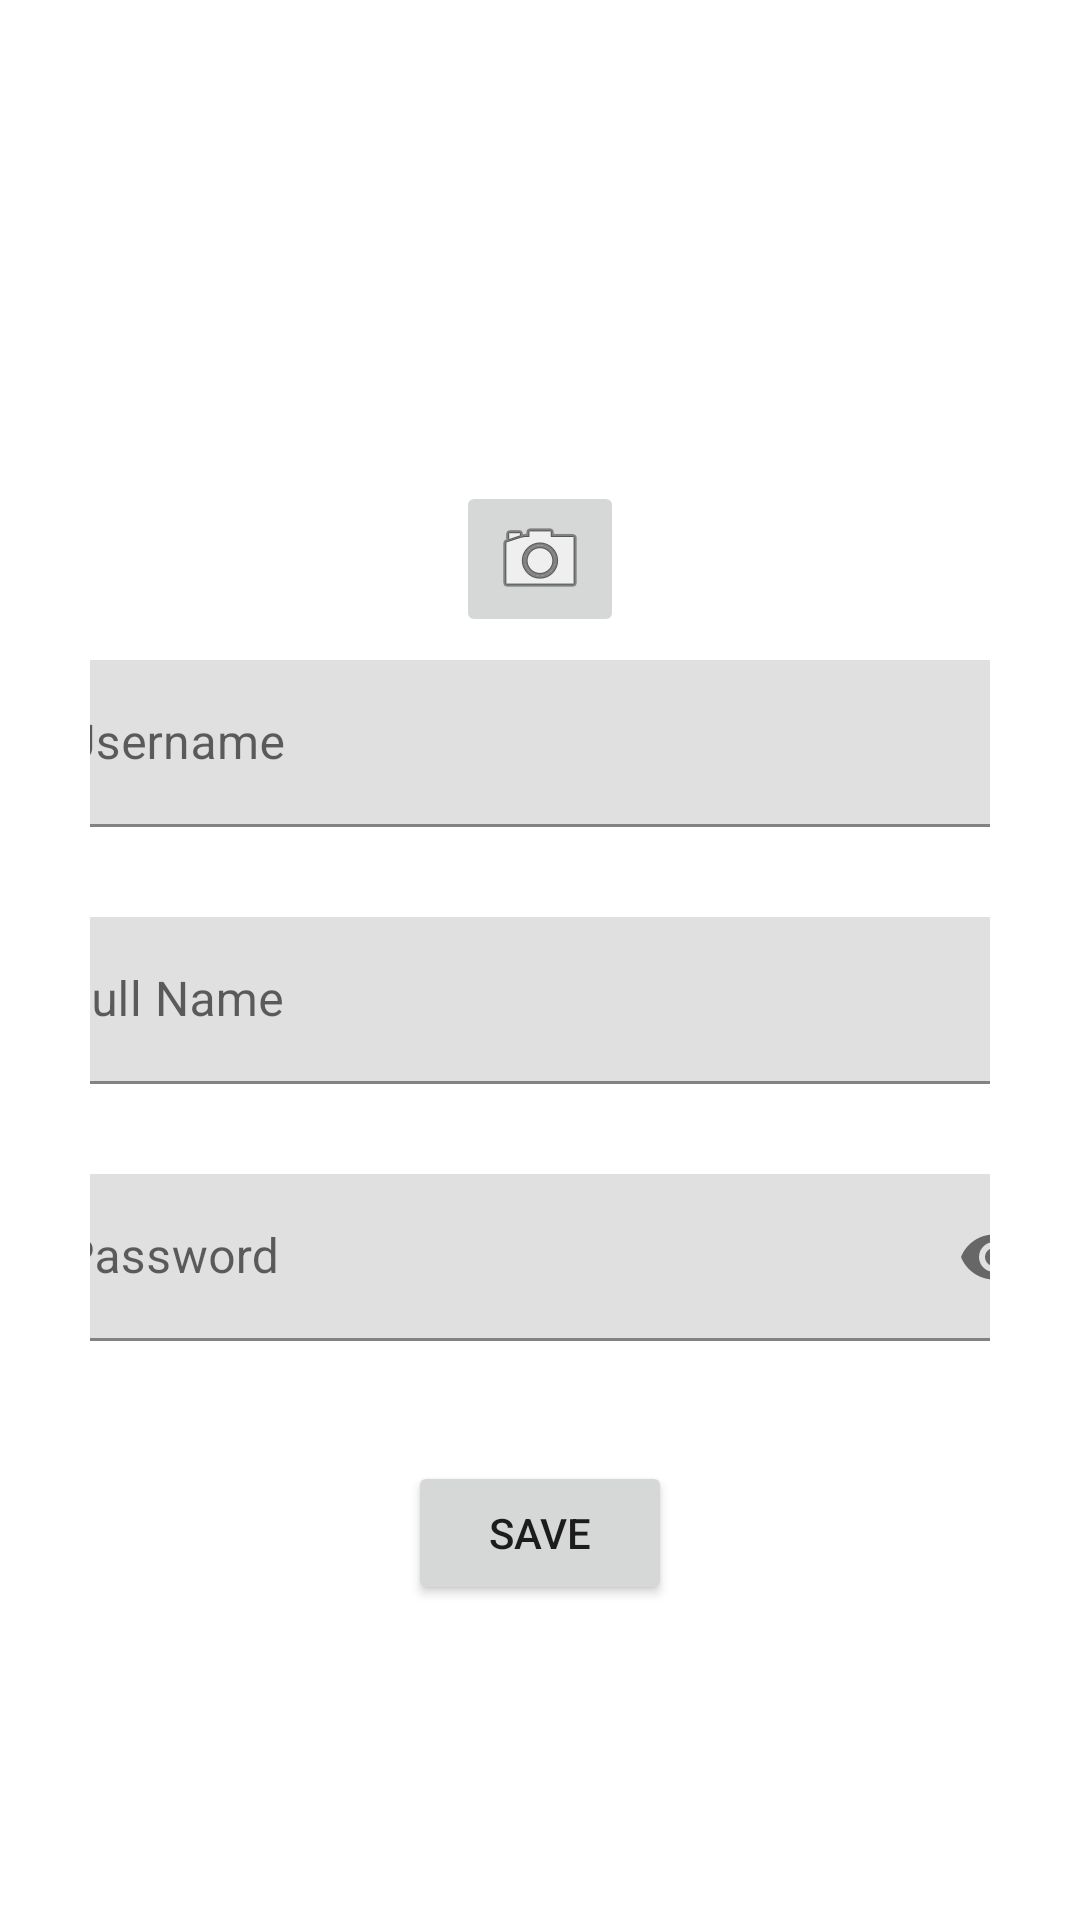

Where icons sit on this 1080×1920 app screen, as (x1, y1, x2, y2):
camera: (468, 499, 612, 619)
